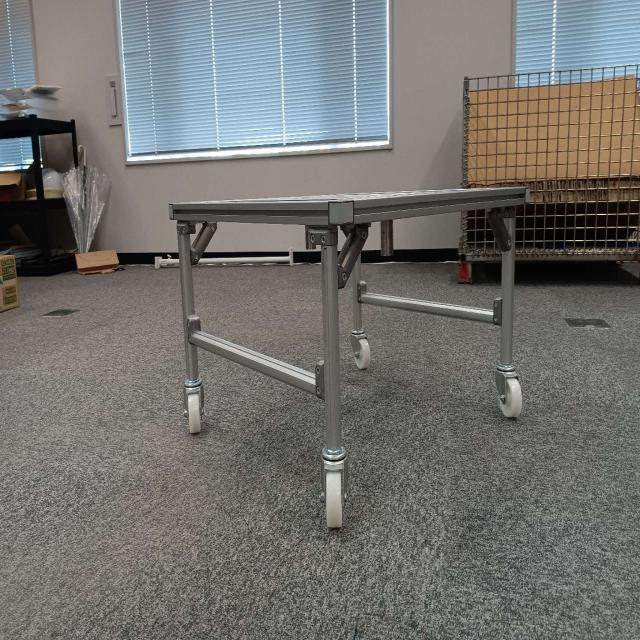box: (0, 250, 20, 312)
door: (332, 193, 516, 283)
side: (174, 201, 338, 398)
